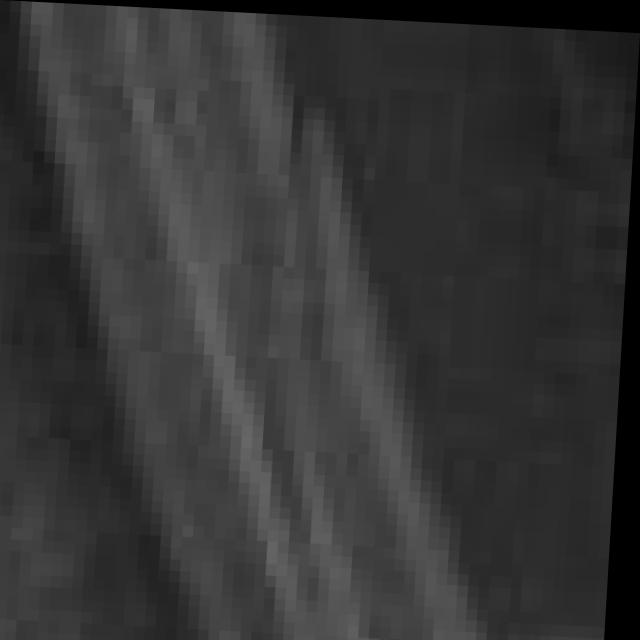fracture: (0, 4, 622, 640)
